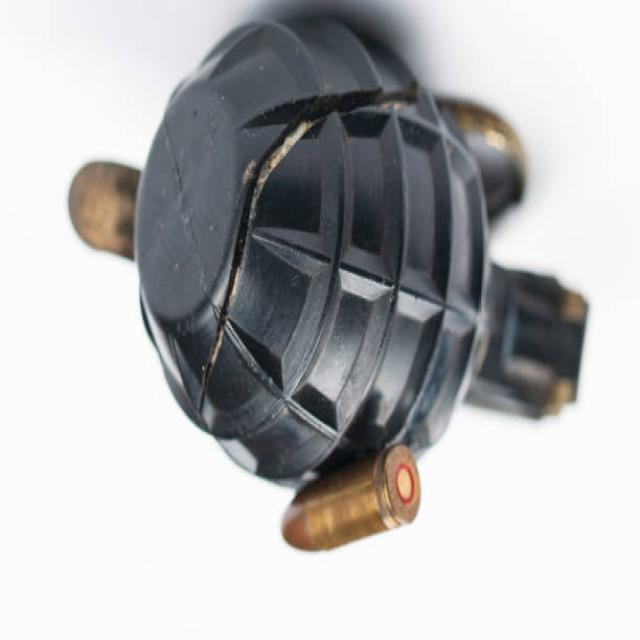grenade: (127, 1, 597, 517)
